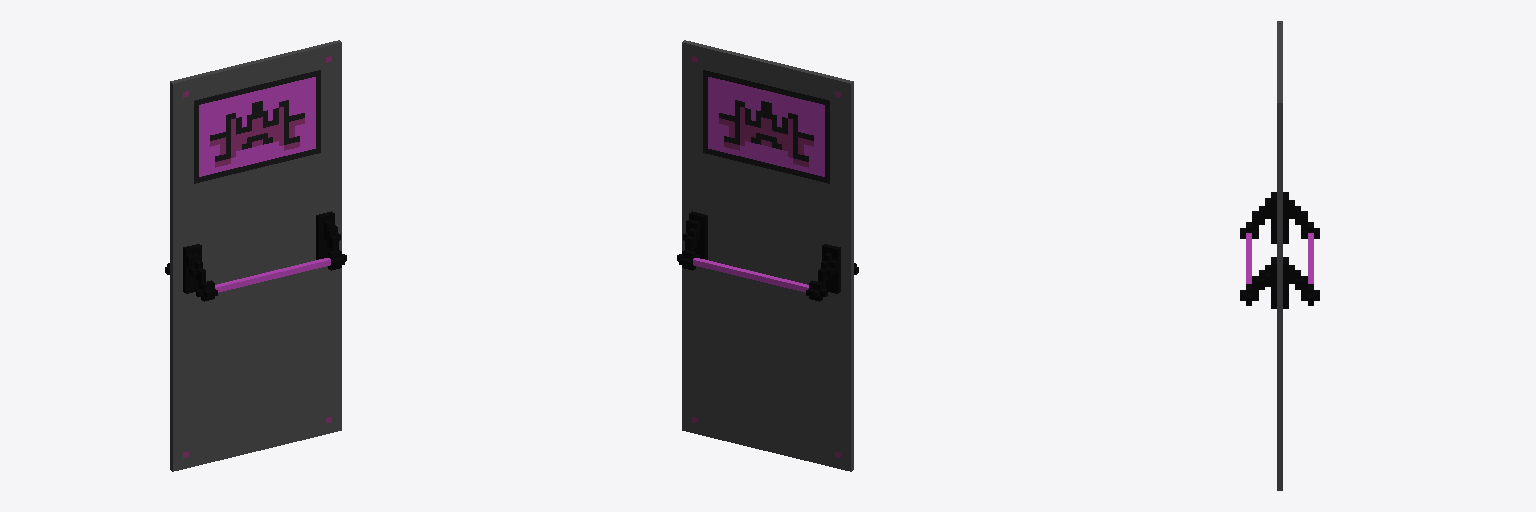
The picture shows the model from 3 angles: view 1: azimuth 30°, elevation 25°; view 2: azimuth 150°, elevation 25°; view 3: azimuth 270°, elevation 25°; orthographic projection.
Visible parts, largest first — view 1: object 1; view 2: object 1; view 3: object 1.
Boxes of the visible parts, box(x1,y1,x2,y2) form: object 1: box(165, 40, 346, 471); object 1: box(677, 40, 858, 471); object 1: box(1240, 21, 1319, 490).
Bounding box in the file's own units: 3.2 × 7 × 1.3.
Materials: 1 (1 with a texture image).